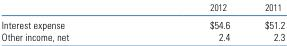table: (0, 0, 284, 42)
table column: (0, 0, 138, 42), (138, 0, 246, 42), (246, 0, 284, 42)
table column header: (0, 0, 284, 15)
table row: (0, 0, 284, 15), (0, 15, 284, 30), (0, 30, 284, 42)
